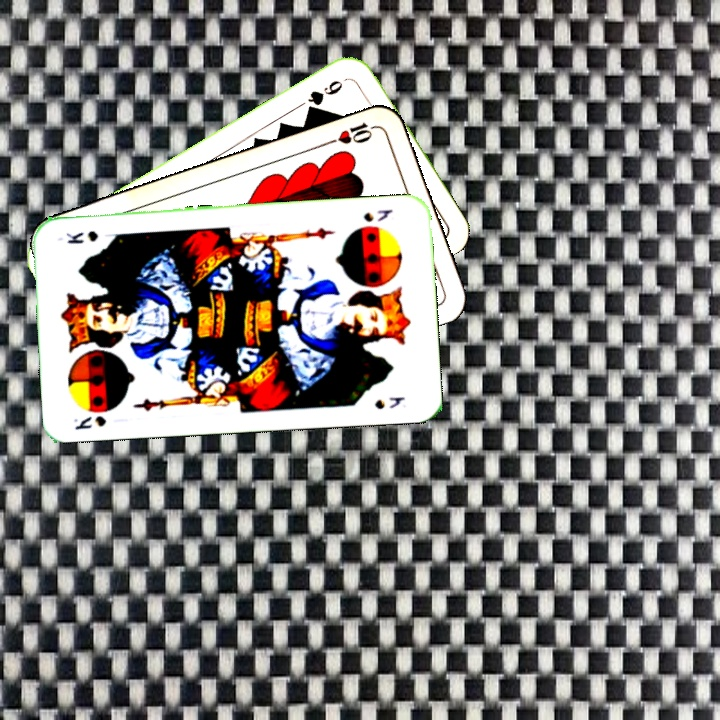G9: (302, 76, 346, 115)
H10: (324, 118, 381, 147)
SK: (70, 412, 108, 432), (359, 205, 396, 225)
